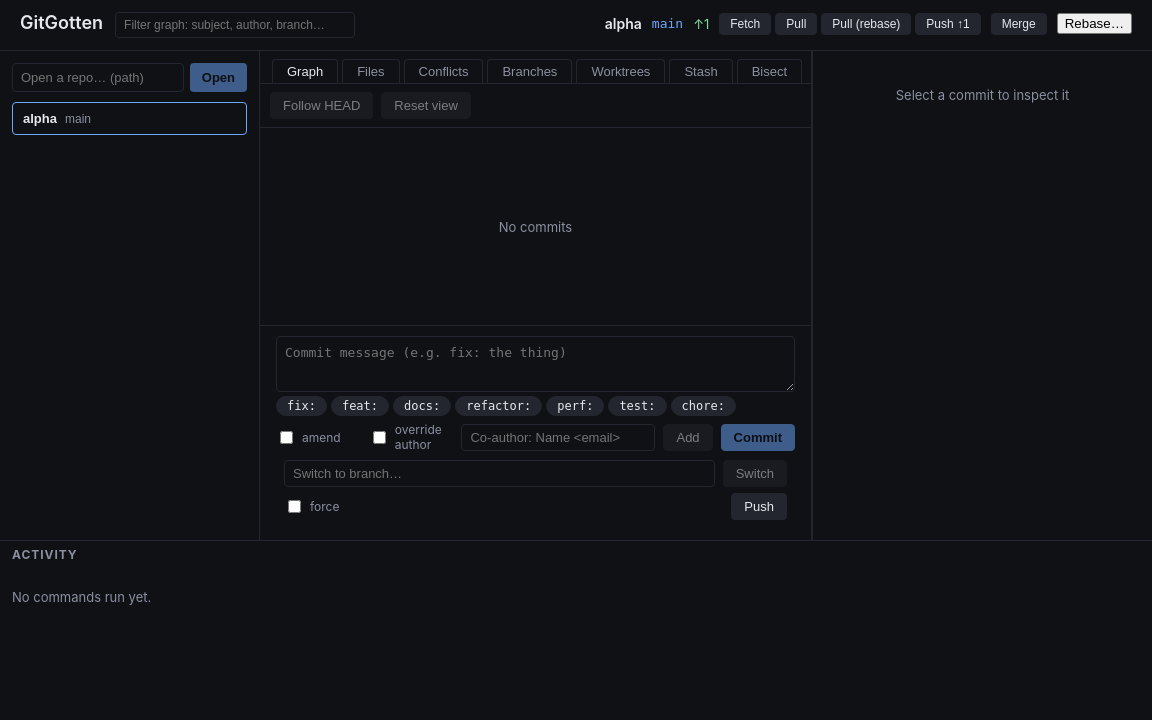
Test: the Branches tab is a main tab of the shell
Click the tab "Branches" at [530, 71], box [488,59,572,83]
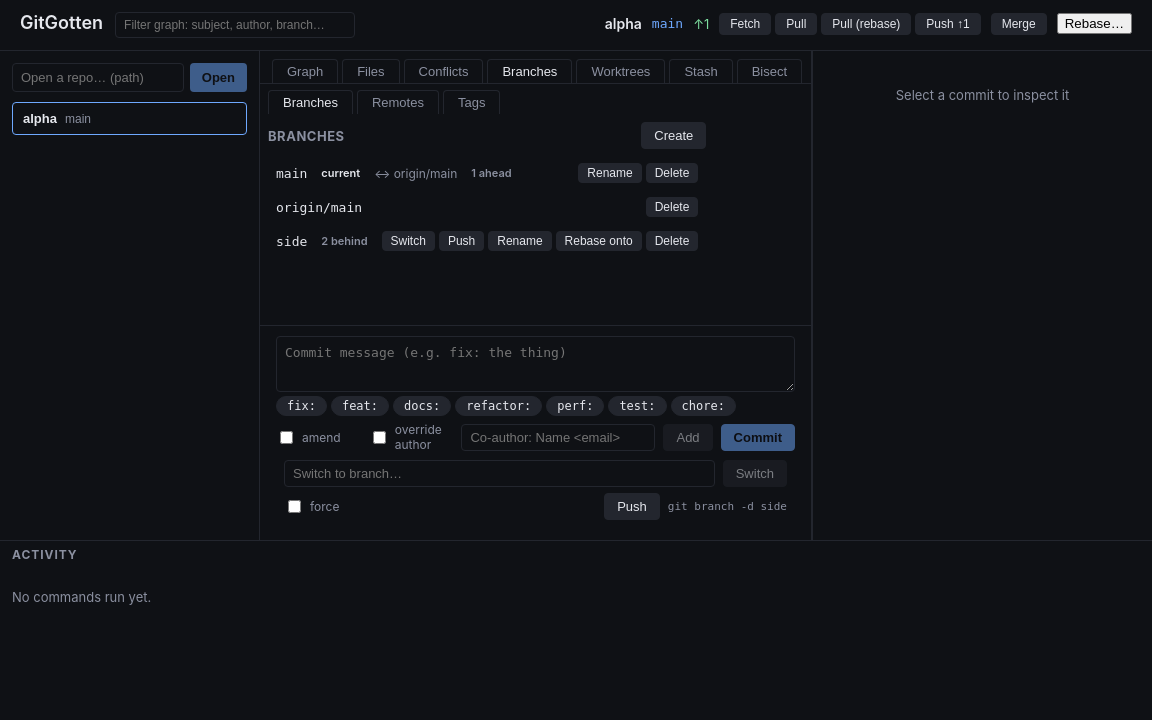
Check: the text "Create" is shown, box [641,122,706,149]
